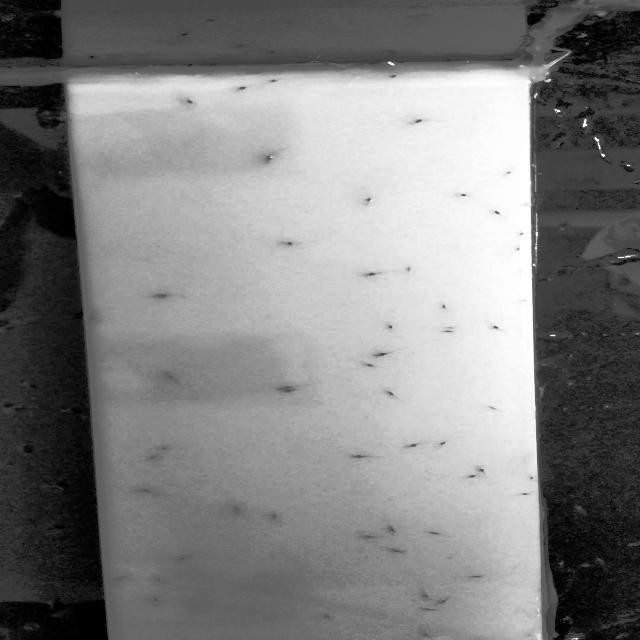shrimp: (258, 149, 290, 166), (368, 348, 404, 360), (272, 383, 302, 394), (160, 370, 181, 385), (350, 359, 378, 370), (480, 403, 506, 414), (383, 390, 410, 400), (80, 311, 96, 327), (350, 452, 376, 461), (423, 530, 452, 538), (228, 85, 253, 93), (434, 597, 455, 606), (366, 269, 384, 279), (113, 575, 134, 583), (409, 115, 425, 125), (420, 605, 440, 613), (457, 190, 472, 200), (360, 196, 376, 205), (466, 572, 490, 578), (264, 76, 284, 83), (403, 442, 422, 449), (151, 293, 169, 300), (467, 473, 488, 479), (180, 96, 195, 104), (268, 510, 280, 520), (386, 523, 396, 535), (321, 613, 335, 621), (438, 302, 449, 312), (477, 467, 487, 478), (231, 505, 242, 515), (136, 488, 154, 494), (492, 208, 505, 216), (387, 74, 403, 80), (284, 239, 300, 245), (176, 555, 192, 561), (142, 454, 161, 459), (364, 536, 379, 542), (504, 168, 515, 176), (147, 597, 163, 602), (425, 632, 435, 640), (514, 492, 530, 497), (437, 330, 463, 333), (160, 445, 173, 451), (437, 441, 452, 446), (402, 266, 414, 272), (156, 575, 164, 584), (190, 602, 202, 608), (421, 593, 431, 600), (438, 326, 458, 329), (392, 549, 404, 554), (526, 476, 534, 482), (386, 324, 395, 329), (495, 327, 504, 332)
